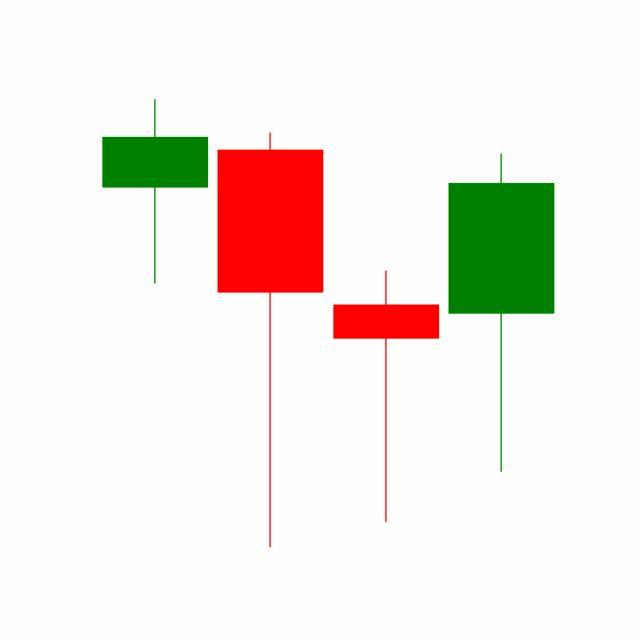Morning Star: (211, 128, 555, 548)
